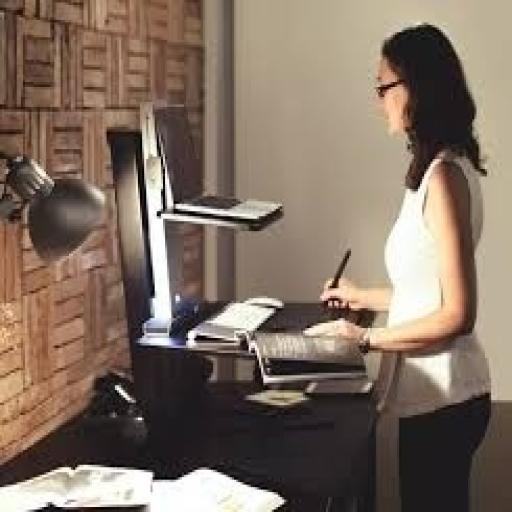sitting: (316, 20, 493, 509)
